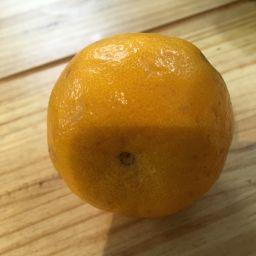Ripe: (46, 34, 235, 220)
